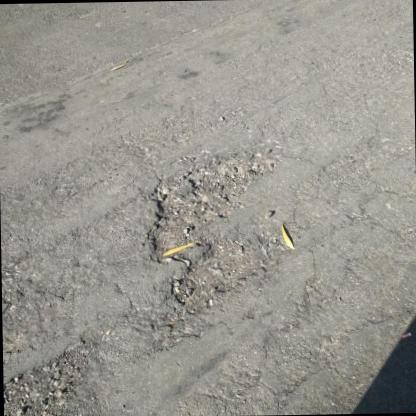pothole: (140, 150, 292, 310), (2, 345, 93, 416)
